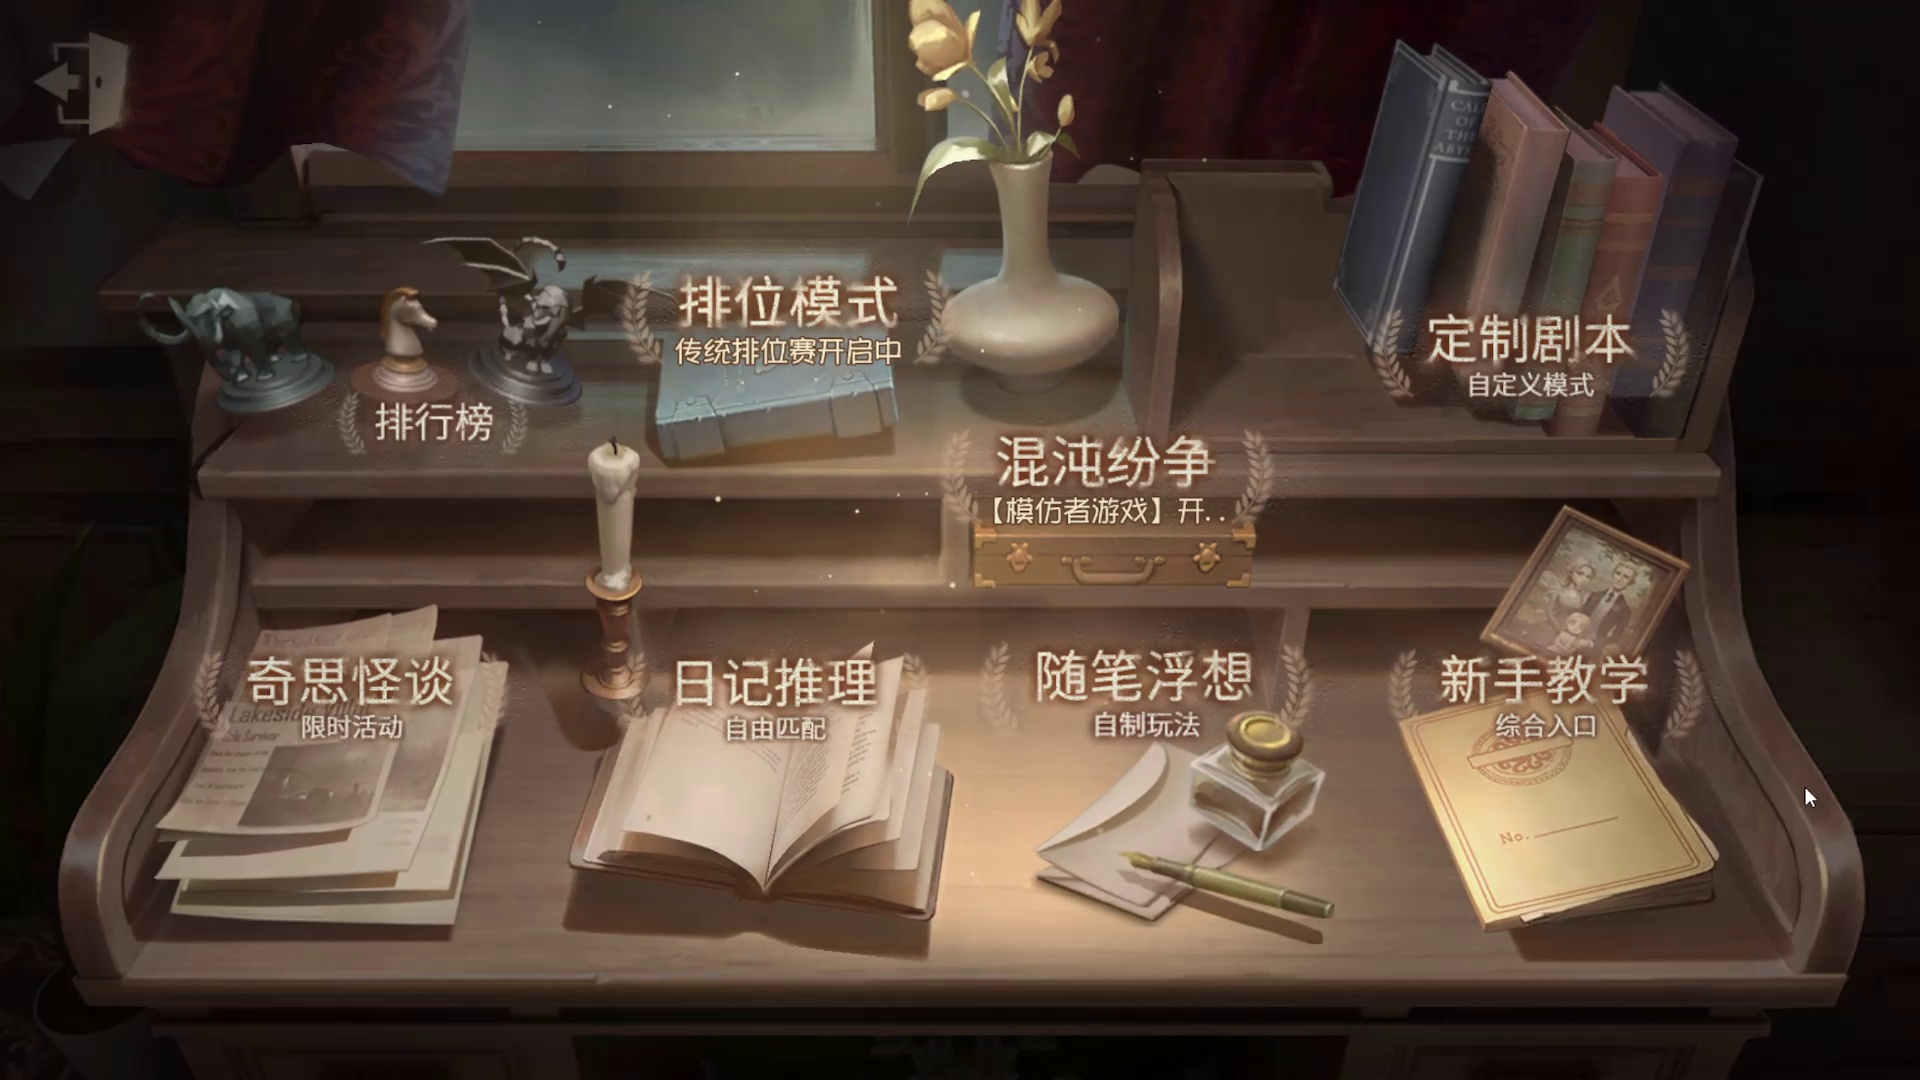自由匹配: (578, 622, 938, 926)
